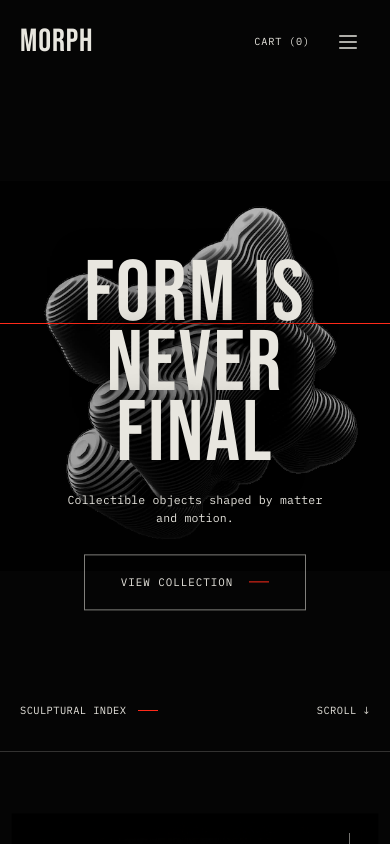
Scenario: MORPH landing page › should expose and close the compact navigation menu
Click the button named "Open menu" at (348, 42), box top-left (326, 20), bottom-right (370, 64)
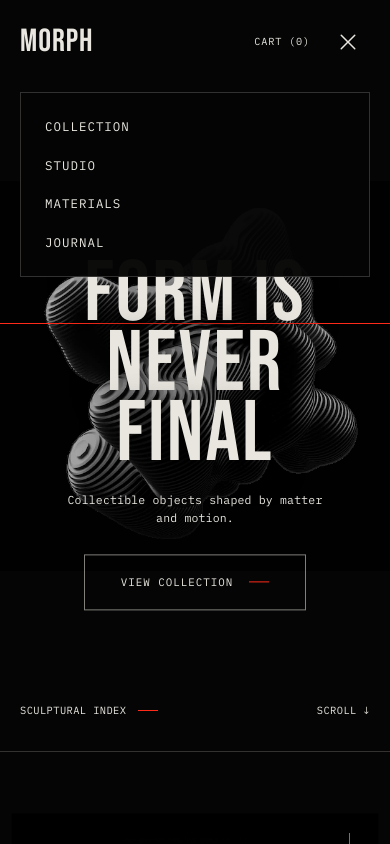
expect the button named "Open menu" is expanded: met
Click the button named "Close menu" at (348, 42), box top-left (326, 20), bottom-right (370, 64)
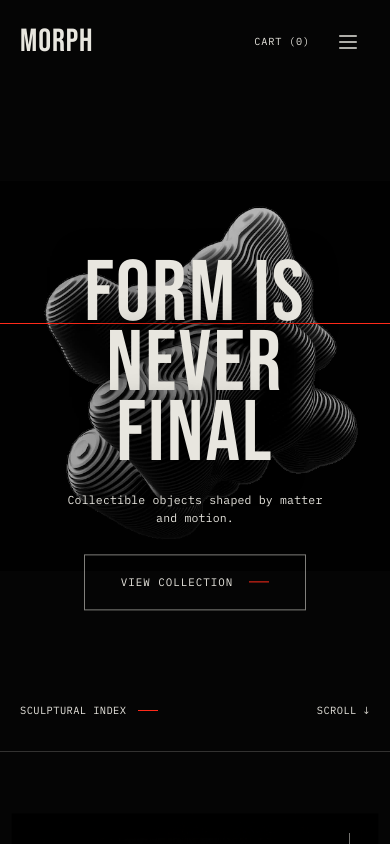
expect the button named "Close menu" is collapsed: met, box top-left (326, 20), bottom-right (370, 64)
